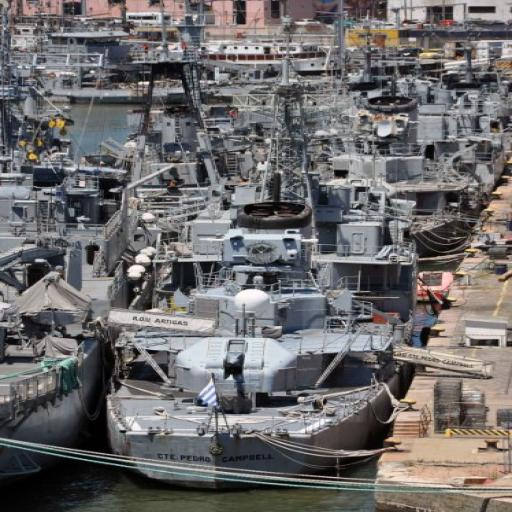Fragata: (79, 54, 431, 485)
